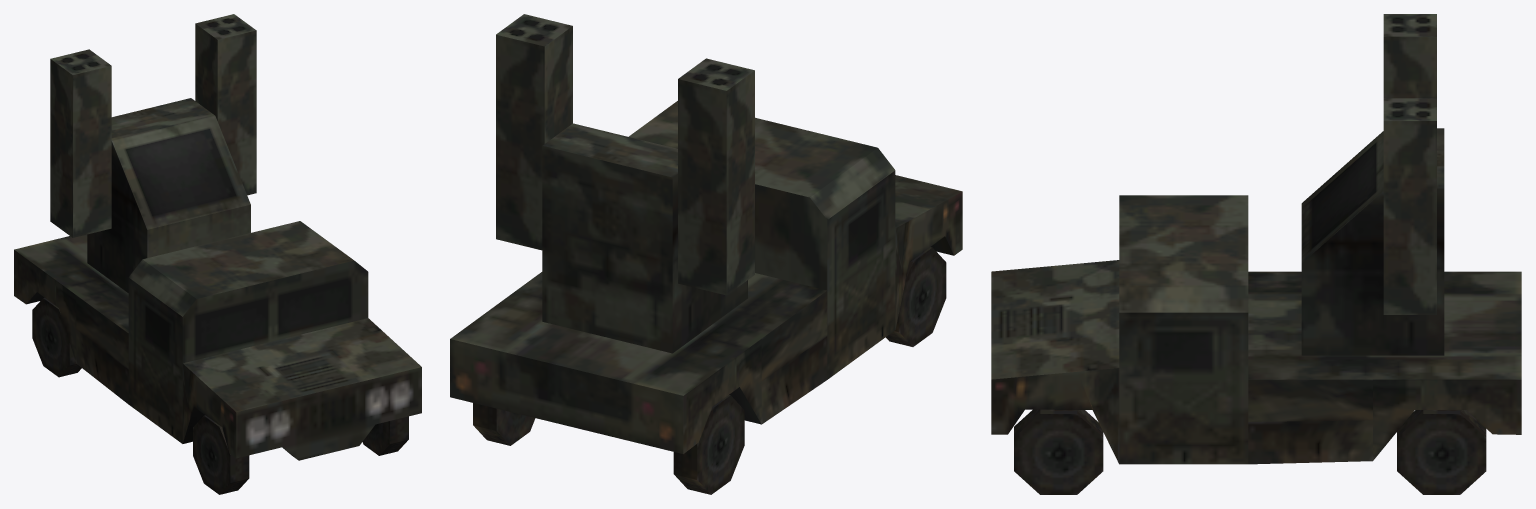
File: AN_TWQ Avenger.fbx
3 renders of one model, left to right at view 1: azimuth 30°, elevation 25°; view 2: azimuth 150°, elevation 25°; view 3: azimuth 270°, elevation 25°, orthographic. The views are drawn at different scales.
Visible parts, largest first — view 1: Vehicle, Turret, Missles; view 2: Vehicle, Missles, Turret; view 3: Vehicle, Turret, Missles.
Part boxes in pixels (box(x1,y1,x2,y2)): Vehicle: box(14, 221, 421, 494); Turret: box(87, 98, 250, 292); Missles: box(50, 14, 256, 237); Vehicle: box(450, 101, 962, 494); Missles: box(496, 14, 754, 295); Turret: box(542, 123, 747, 353); Vehicle: box(991, 195, 1521, 494); Turret: box(1301, 128, 1444, 355); Missles: box(1383, 14, 1436, 314).
Size of the model in its own units: 230 by 477 by 373.
Materials: 1 (1 with a texture image).
